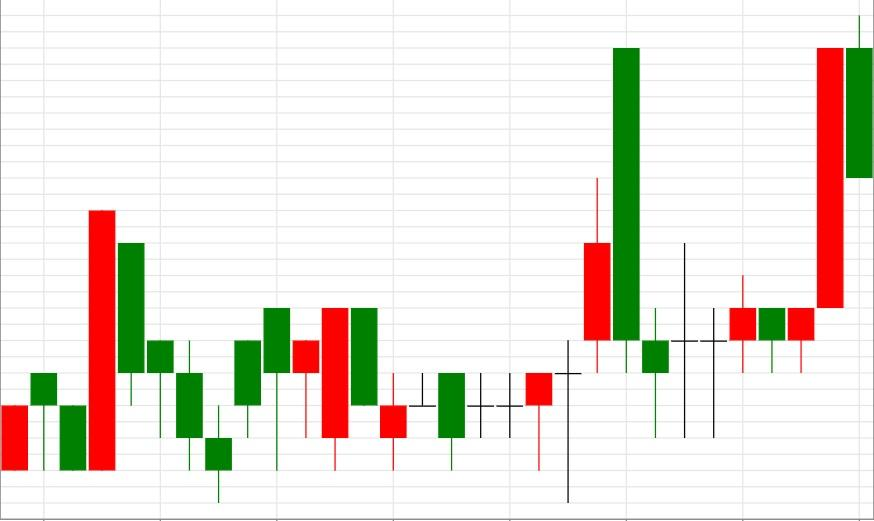bearish_engulfing_fall: (379, 48, 641, 503)
